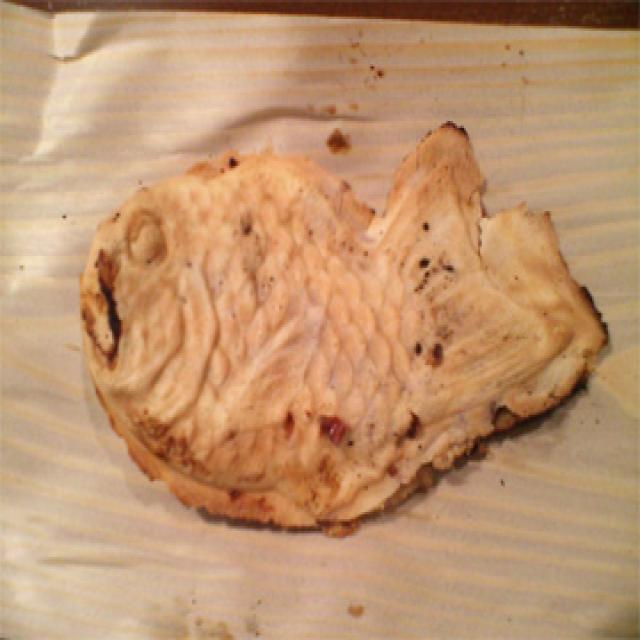熟制海鲜: (80, 107, 615, 540)
